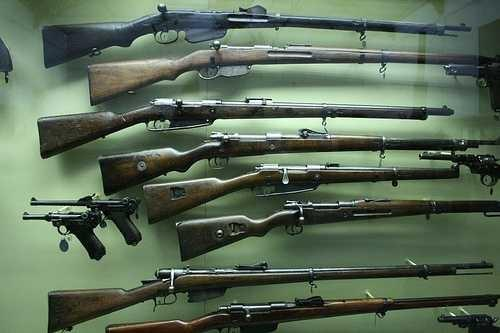heavyweapon: (27, 257, 465, 322), (23, 0, 476, 61), (82, 128, 496, 194), (6, 102, 465, 158), (144, 159, 476, 235), (65, 49, 490, 105), (171, 195, 498, 267)
